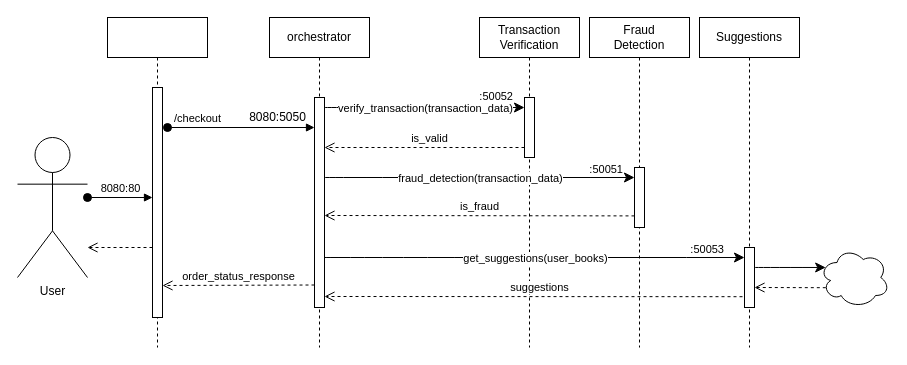
Image size: 907x365. Some labels were removed from this diagram. The shapes that lost their labels are listed below. From the top down, each one's box as (x1, y1, x2, y2) in pixels, then its label:
(106, 16, 208, 348): frontend
(818, 246, 890, 308): Gemini API
